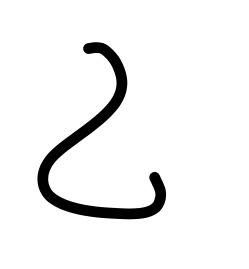a: (64, 32, 155, 131)
